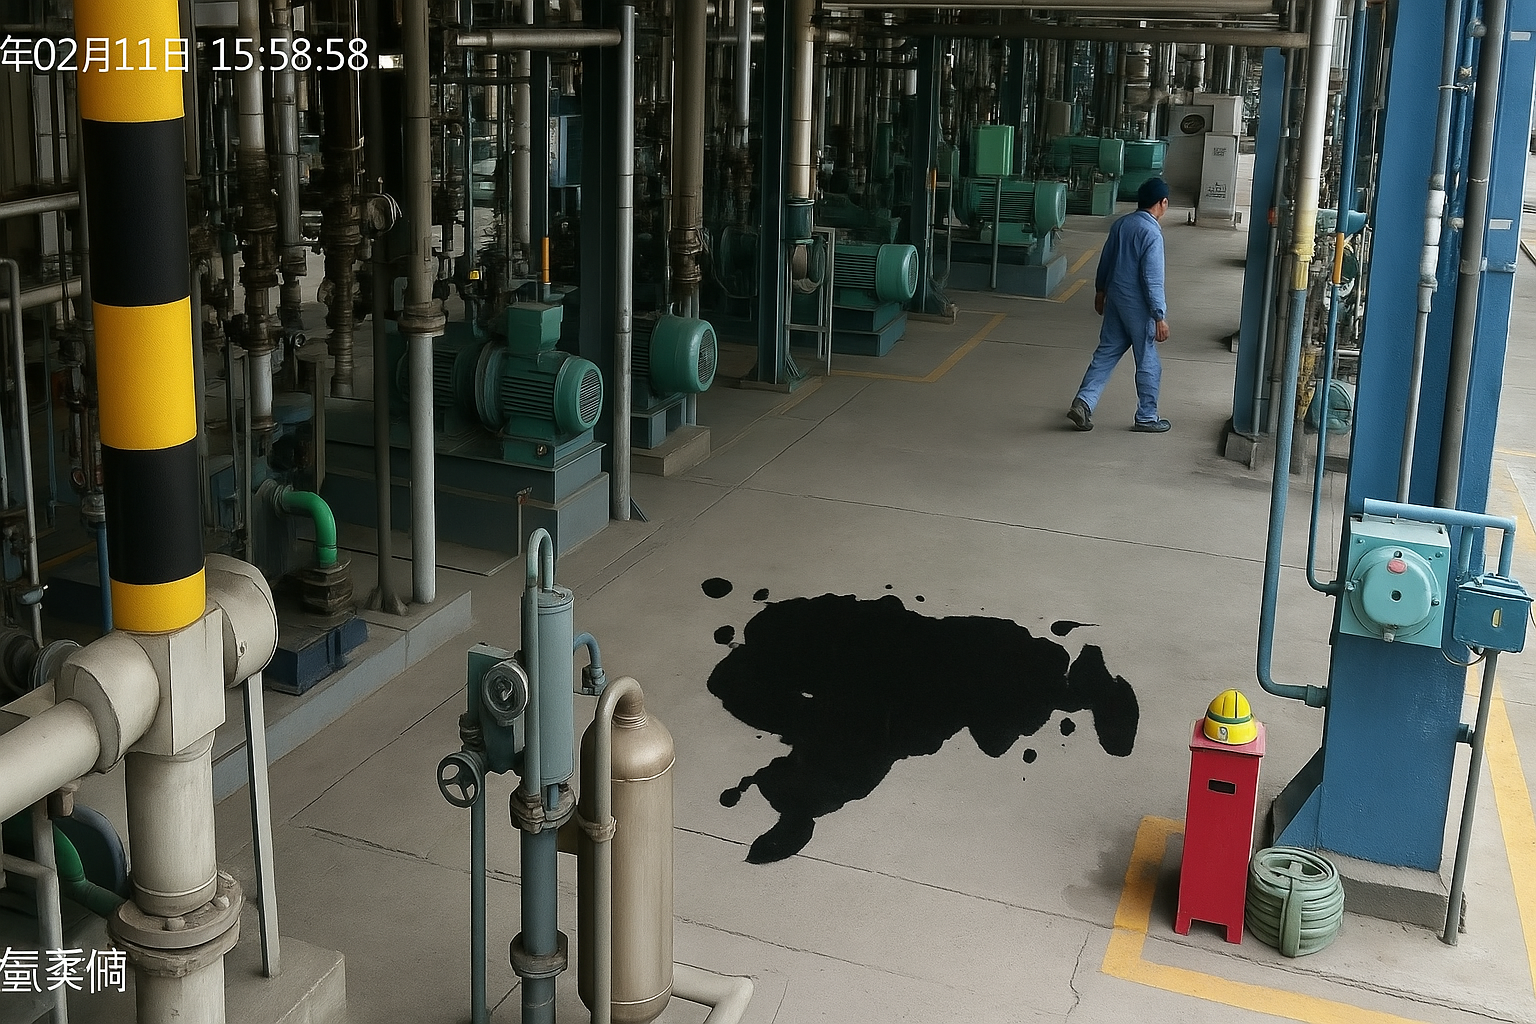oil_leakage: (662, 552, 1155, 873)
